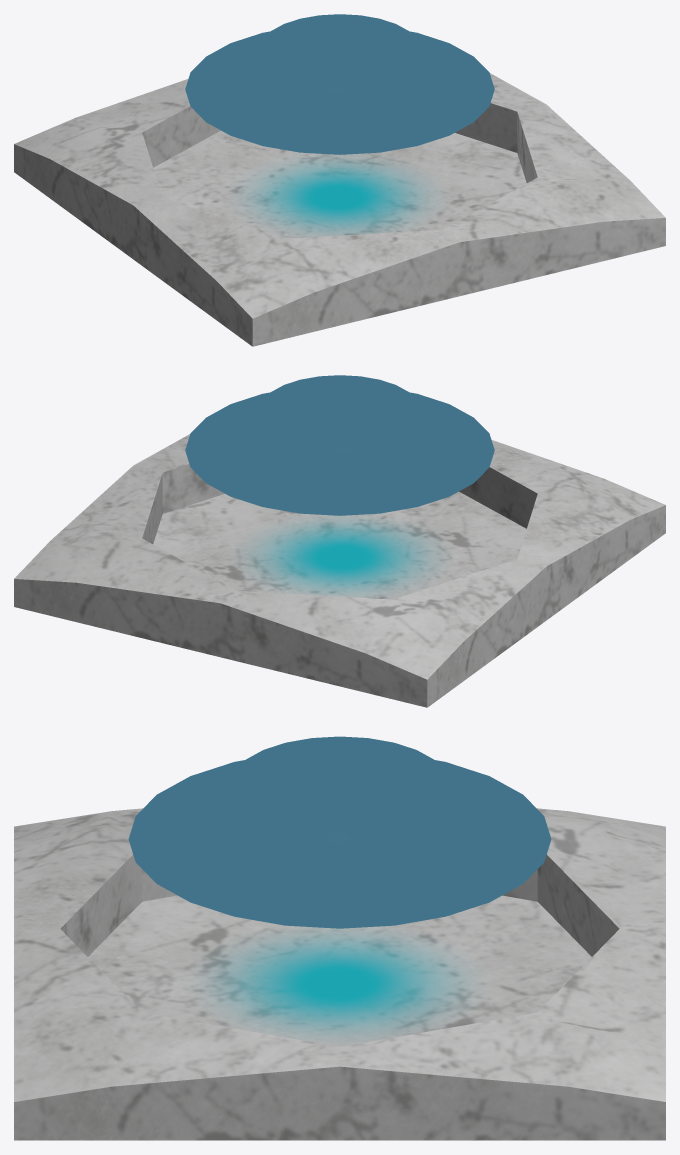
Rendered from Teleporter.fbx.
3 views of the same model, one above another, from view 1: azimuth 30°, elevation 25°; view 2: azimuth 150°, elevation 25°; view 3: azimuth 270°, elevation 25° (orthographic). The views are drawn at different scales.
Parts seen in each view (by area): view 1: Base, Floating_Effect_1, Floating_Effect_2; view 2: Base, Floating_Effect_1, Floating_Effect_2; view 3: Base, Floating_Effect_1, Floating_Effect_2.
Part boxes in pixels (bbox=[...]): Base: bbox=[14, 73, 665, 346]; Floating_Effect_1: bbox=[185, 31, 494, 154]; Floating_Effect_2: bbox=[260, 14, 419, 81]; Base: bbox=[14, 434, 665, 707]; Floating_Effect_1: bbox=[185, 392, 494, 515]; Floating_Effect_2: bbox=[260, 375, 419, 442]; Base: bbox=[14, 808, 665, 1140]; Floating_Effect_1: bbox=[128, 760, 551, 928]; Floating_Effect_2: bbox=[231, 736, 448, 827].
Bounding box in the file's own units: 4 × 1.49 × 4.
